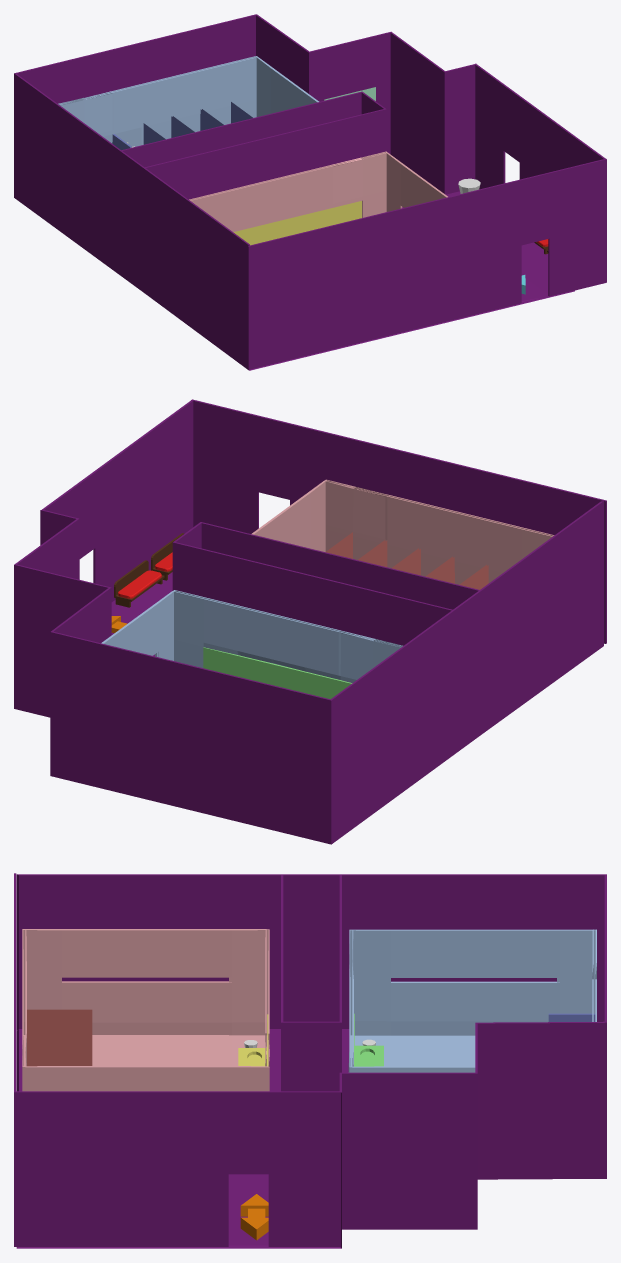
The model's file is FBX Toilet_CLEAN.fbx.
3 views of the same model, one above another, from view 1: azimuth 30°, elevation 25°; view 2: azimuth 150°, elevation 25°; view 3: azimuth 270°, elevation 25° (orthographic). The views are drawn at different scales.
Visible parts, largest first — view 1: Hallway.001, Dinding Room.001, Boys Toilet, Girls Toilet Wall, Dinding Room.005, Toilet Mirror, Boys Toilet Stall, Girls Toilet Wall.001; view 2: Hallway.001, Dinding Room.001, Dinding Room.005, Girls Toilet Wall.001, Boys Toilet.001, Girls Toilet Wall, Toilet Mirror.001, Boys Toilet, Girls Toilet Stall, Chair 4, Chair Pad 4; view 3: Hallway.001, Dinding Room.005, Girls Toilet Wall.001, Boys Toilet.001, Girls Toilet Wall, Boys Toilet, Girls Toilet Stall, Dinding Room.001, Toilet/Food Court.001, Toilet Mirror.001, Toilet Mirror.
Part boxes in pixels (left/top/right/bottom): Hallway.001: left=14, top=14, right=604, bottom=370; Dinding Room.001: left=247, top=158, right=606, bottom=369; Boys Toilet: left=59, top=57, right=318, bottom=146; Girls Toilet Wall: left=190, top=152, right=447, bottom=231; Dinding Room.005: left=474, top=63, right=605, bottom=189; Toilet Mirror: left=233, top=201, right=361, bottom=245; Boys Toilet Stall: left=112, top=102, right=252, bottom=150; Girls Toilet Wall.001: left=189, top=151, right=447, bottom=200; Hallway.001: left=14, top=501, right=603, bottom=844; Dinding Room.001: left=191, top=399, right=606, bottom=643; Dinding Room.005: left=41, top=400, right=193, bottom=601; Girls Toilet Wall.001: left=252, top=481, right=552, bottom=584; Boys Toilet.001: left=101, top=591, right=401, bottom=682; Girls Toilet Wall: left=252, top=479, right=554, bottom=551; Toilet Mirror.001: left=203, top=647, right=352, bottom=699; Boys Toilet: left=102, top=590, right=403, bottom=660; Girls Toilet Stall: left=325, top=532, right=488, bottom=589; Chair 4: left=114, top=560, right=164, bottom=607; Chair Pad 4: left=118, top=570, right=161, bottom=598; Hallway.001: left=16, top=874, right=606, bottom=1248; Dinding Room.005: left=16, top=1091, right=341, bottom=1246; Girls Toilet Wall.001: left=25, top=929, right=269, bottom=1091; Boys Toilet.001: left=352, top=929, right=596, bottom=1072; Girls Toilet Wall: left=22, top=929, right=266, bottom=1091; Boys Toilet: left=348, top=929, right=593, bottom=1072; Girls Toilet Stall: left=27, top=1009, right=92, bottom=1066; Dinding Room.001: left=14, top=873, right=16, bottom=1246; Toilet/Food Court.001: left=240, top=1194, right=268, bottom=1240; Toilet Mirror.001: left=354, top=1013, right=383, bottom=1066; Toilet Mirror: left=238, top=1014, right=268, bottom=1066.
Bounding box in the file's own units: 1870 × 624 × 2135.
